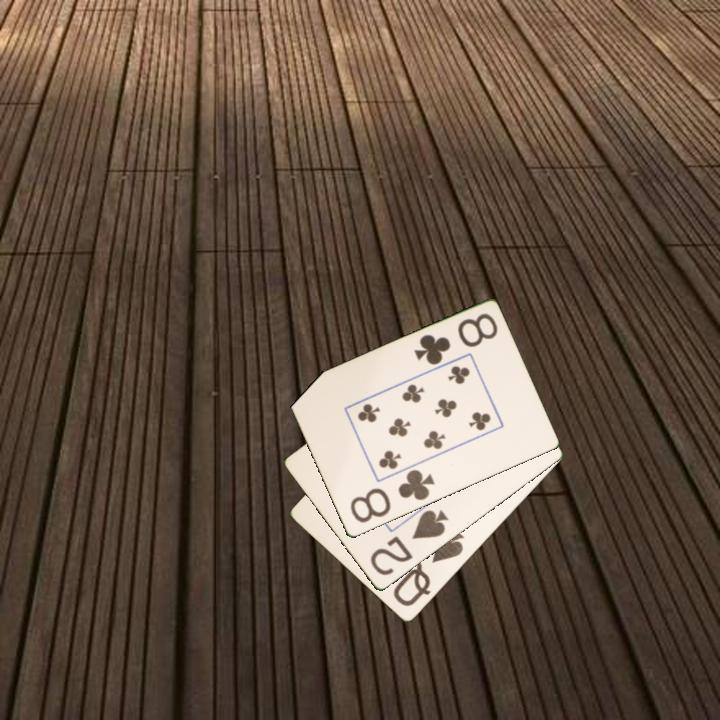2s: (366, 506, 451, 579)
8c: (346, 466, 438, 526), (410, 310, 501, 368)
Qs: (389, 526, 467, 610)
